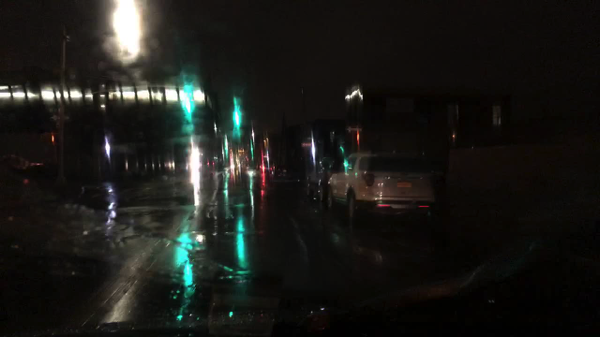car: (324, 149, 439, 226), (303, 155, 341, 205), (0, 154, 63, 183), (273, 164, 294, 181), (259, 159, 272, 175)
traffic light: (180, 86, 194, 112), (231, 107, 243, 128), (44, 132, 58, 146)
traffic sign: (345, 126, 364, 133)
